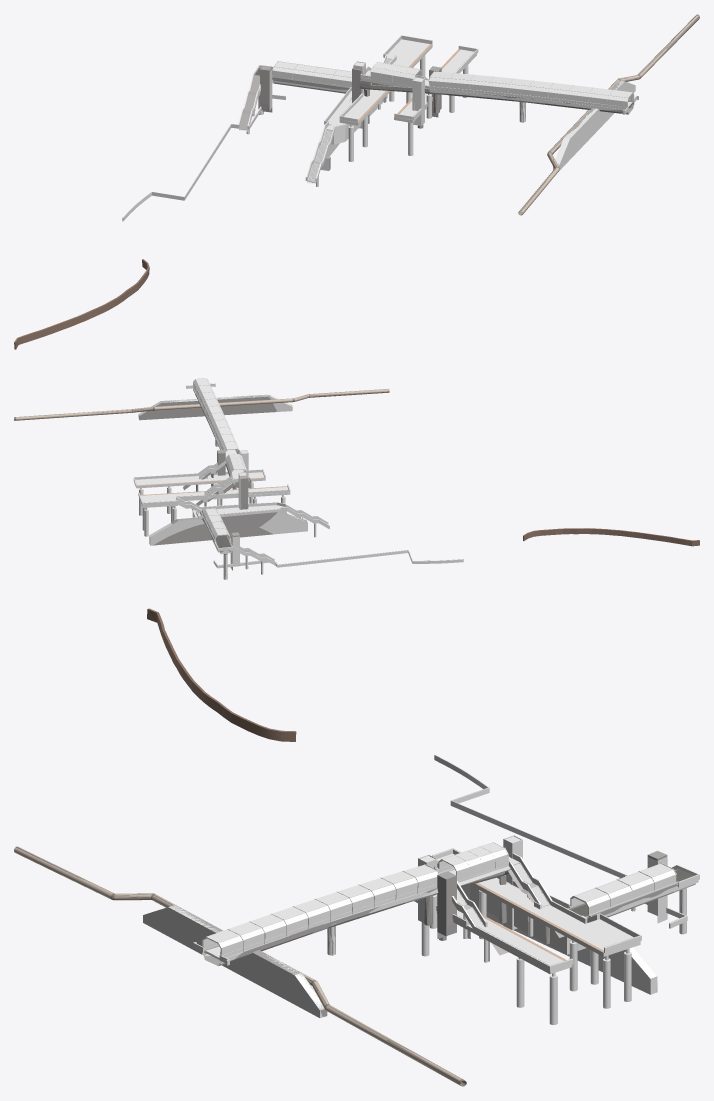
The model's file is station.dae.
3 renders of one model, top to bottom at view 1: azimuth 30°, elevation 25°; view 2: azimuth 150°, elevation 25°; view 3: azimuth 270°, elevation 25°, orthographic. The views are drawn at different scales.
Parts seen in each view (by area): view 1: station_a3000, station_a1000, Colmesh-1; view 2: station_a3000, station_a1000, Colmesh-1; view 3: station_a3000, station_a1000, Colmesh-1.
Part boxes in pixels (x1=…): station_a3000: x1=15, y1=14, x2=699, y2=347; station_a1000: x1=15, y1=14, x2=699, y2=349; Colmesh-1: x1=14, y1=35, x2=638, y2=349; station_a3000: x1=14, y1=378, x2=463, y2=579; station_a1000: x1=14, y1=389, x2=691, y2=579; Colmesh-1: x1=133, y1=383, x2=699, y2=568; station_a3000: x1=14, y1=609, x2=698, y2=1086; station_a1000: x1=14, y1=609, x2=694, y2=1086; Colmesh-1: x1=148, y1=608, x2=699, y2=971.
Bounding box in the file's own units: 280 × 149 × 31.48.
